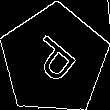P_SE: (24, 30, 84, 90)
